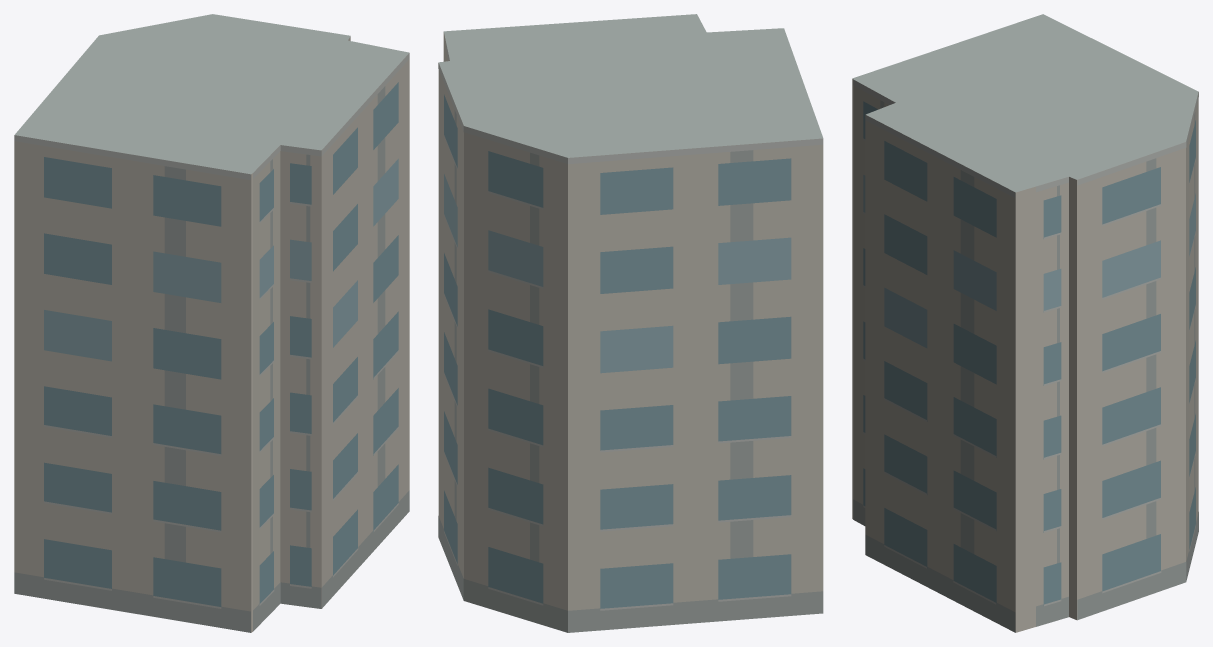
Rendered from survey-upis-32844007.glb.
3 views of the same model, side by side, from view 1: azimuth 30°, elevation 25°; view 2: azimuth 150°, elevation 25°; view 3: azimuth 270°, elevation 25° (orthographic). The views are drawn at different scales.
Visible parts, largest first — view 1: survey-upis-32844007.tmp; view 2: survey-upis-32844007.tmp; view 3: survey-upis-32844007.tmp.
Boxes of the visible parts, <box> form: survey-upis-32844007.tmp: <box>14,14,409,632</box>; survey-upis-32844007.tmp: <box>438,14,823,632</box>; survey-upis-32844007.tmp: <box>852,14,1198,632</box>.
Bounding box in the file's own units: 15.92 × 18.3 × 13.06.
